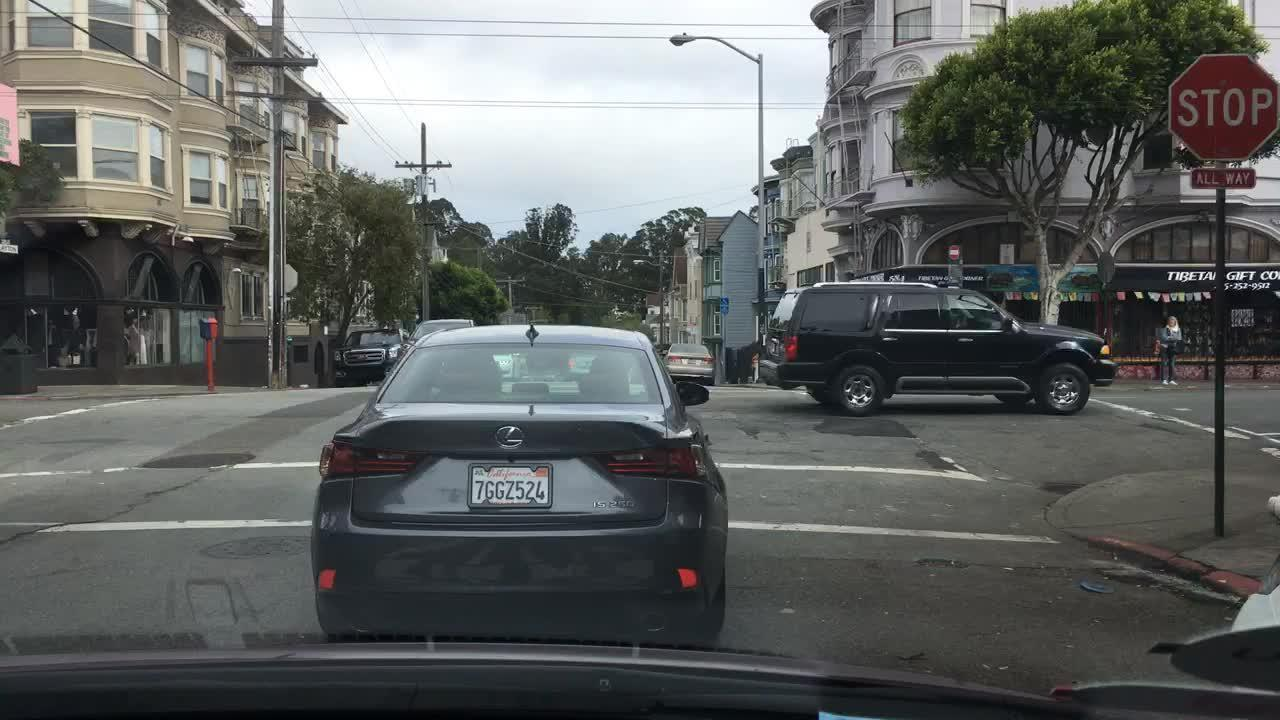lexus: (492, 416, 527, 458)
